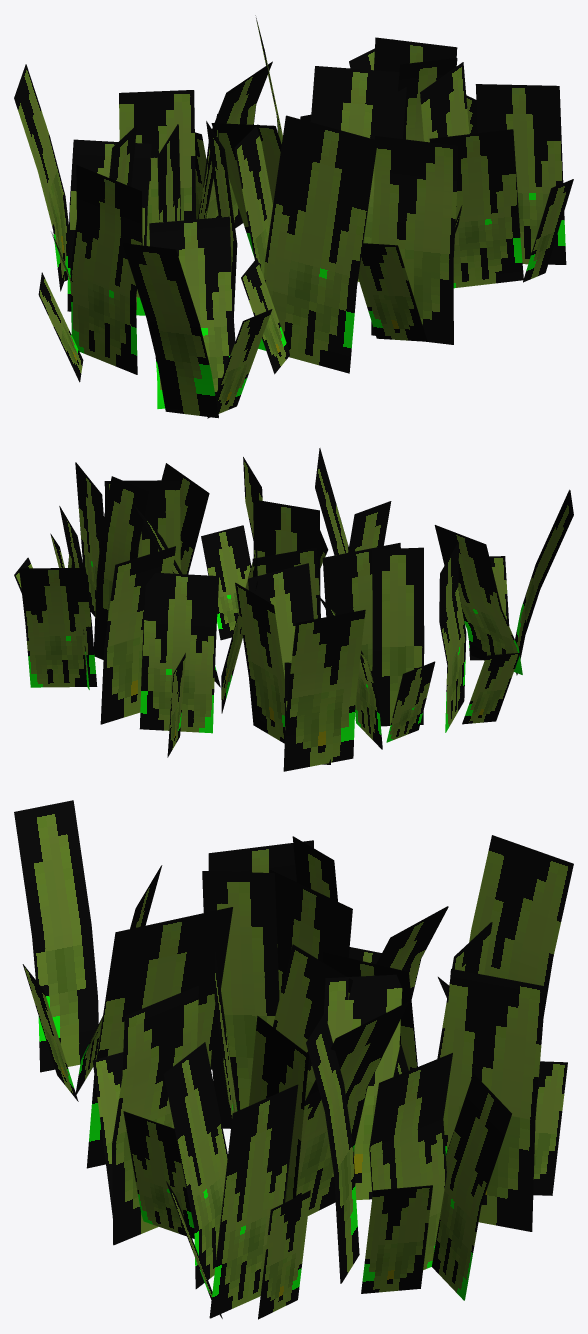
File: plants_area02_grass08.gltf
The picture shows the model from 3 angles, top to bottom: view 1: azimuth 30°, elevation 25°; view 2: azimuth 150°, elevation 25°; view 3: azimuth 270°, elevation 25°; orthographic projection. The views are drawn at different scales.
Visible parts, largest first — view 1: plants_area02_grass08; view 2: plants_area02_grass08; view 3: plants_area02_grass08.
Boxes of the visible parts, <box> form: plants_area02_grass08: <box>14,15,573,418</box>; plants_area02_grass08: <box>14,448,573,771</box>; plants_area02_grass08: <box>14,800,573,1319</box>.
Bounding box in the file's own units: 1.26 × 0.5057 × 0.9552.
Materials: 1 (1 with a texture image).
